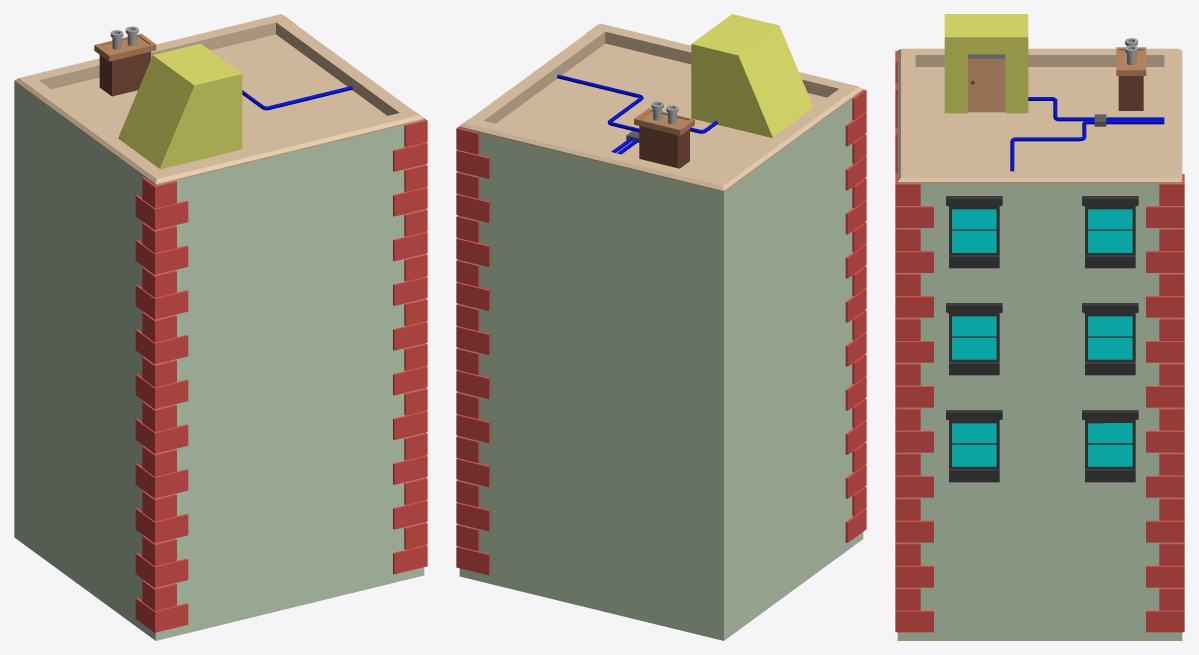
Rendered from building_06.fbx.
3 views of the same model, side by side, from view 1: azimuth 30°, elevation 25°; view 2: azimuth 150°, elevation 25°; view 3: azimuth 270°, elevation 25° (orthographic). The views are drawn at different scales.
Visible parts, largest first — view 1: Plane.020; view 2: Plane.020; view 3: Plane.020.
Boxes of the visible parts, x1=… form: Plane.020: x1=14, y1=14, x2=427, y2=640; Plane.020: x1=456, y1=14, x2=866, y2=640; Plane.020: x1=895, y1=14, x2=1184, y2=640.
Bounding box in the file's own units: 1131 × 2039 × 1018.
